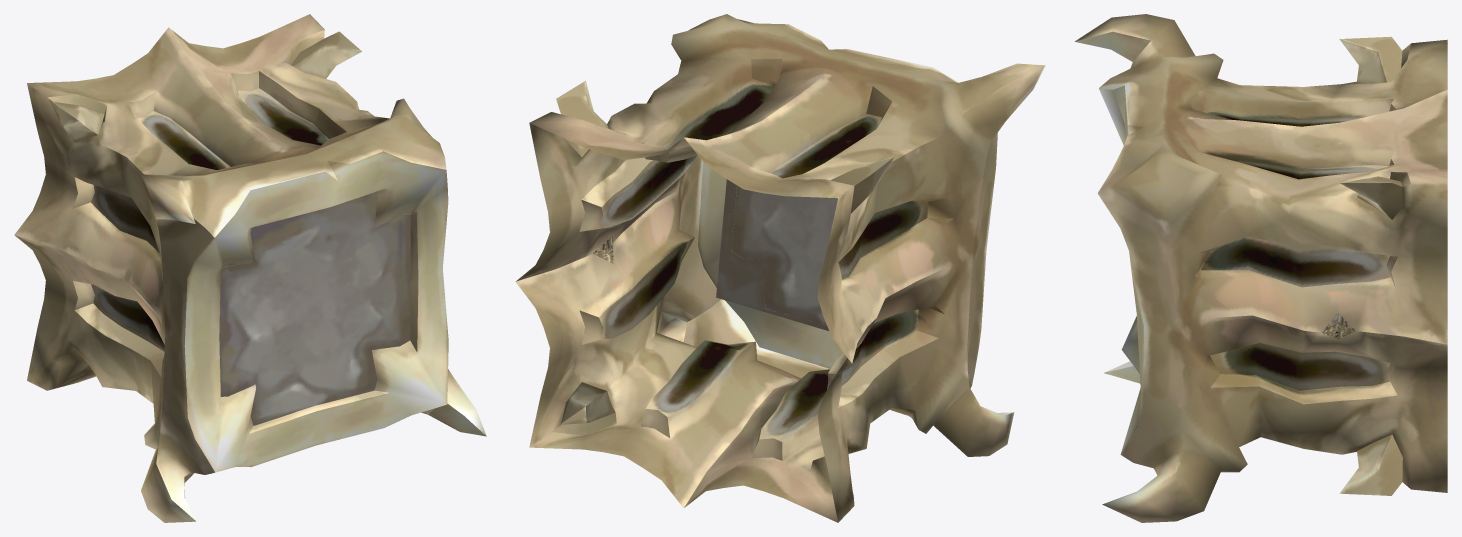
Rendered from HL_Crate_A_DmgState_02_Base.fbx.
3 views of the same model, side by side, from view 1: azimuth 30°, elevation 25°; view 2: azimuth 150°, elevation 25°; view 3: azimuth 270°, elevation 25° (orthographic). The views are drawn at different scales.
Parts seen in each view (by area): view 1: HL_Crate_A_DmgState_02_Base; view 2: HL_Crate_A_DmgState_02_Base; view 3: HL_Crate_A_DmgState_02_Base.
Boxes of the visible parts, box(x1,y1,x2,y2) form: HL_Crate_A_DmgState_02_Base: box(14, 14, 486, 522); HL_Crate_A_DmgState_02_Base: box(515, 14, 1045, 522); HL_Crate_A_DmgState_02_Base: box(1074, 14, 1447, 522).
Size of the model in its own units: 151 by 153 by 141.
